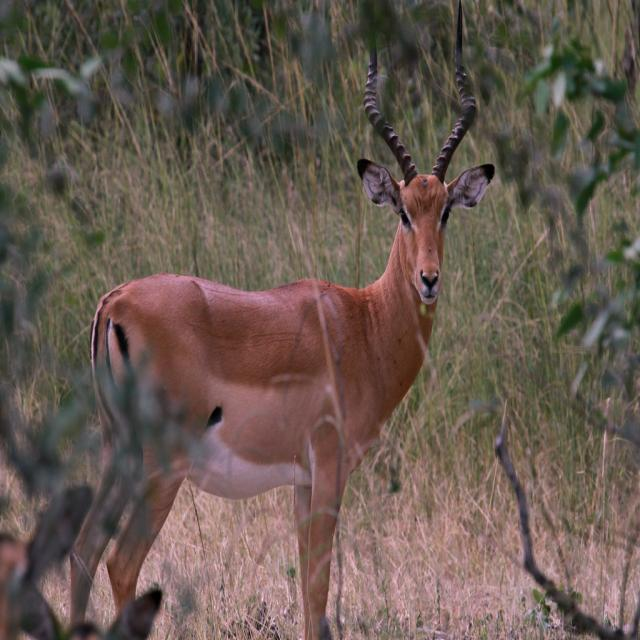Deer: (68, 0, 495, 640)
